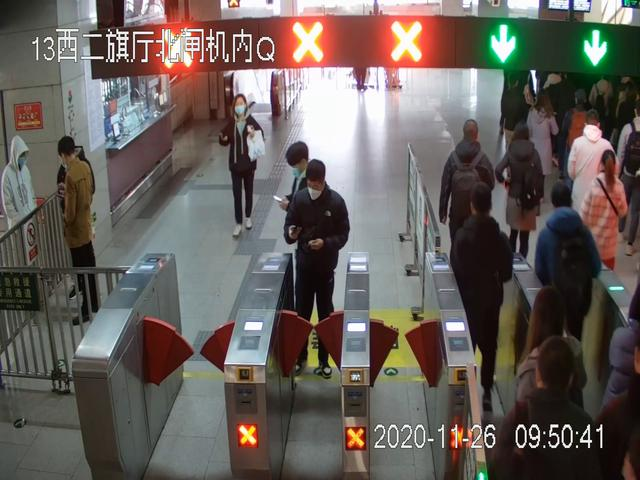person: (450, 183, 512, 424), (285, 159, 351, 379), (536, 183, 601, 396), (58, 136, 102, 323), (439, 119, 495, 259), (496, 125, 544, 277), (568, 111, 617, 257), (219, 94, 266, 239), (582, 148, 628, 280), (2, 135, 37, 305), (526, 89, 559, 200)
